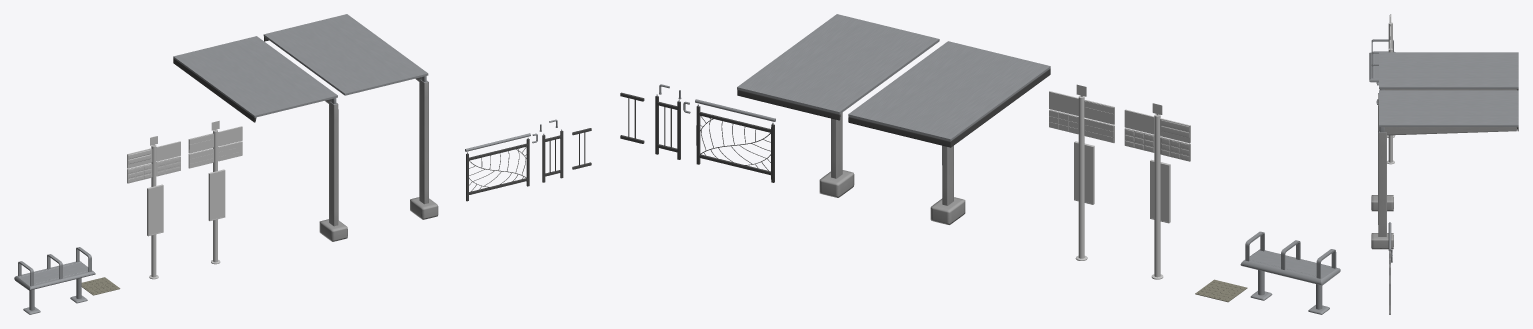
File: slopeAssets1.fbx
The picture shows the model from 3 angles, left to right: view 1: azimuth 30°, elevation 25°; view 2: azimuth 150°, elevation 25°; view 3: azimuth 270°, elevation 25°; orthographic projection. The views are drawn at different scales.
Parts seen in each view (by area): view 1: pCube14 (×2), pCube11 (×2), transparent (×2), pCube18, pCube10 (×2), pole (×2), pCube16; view 2: pCube14 (×2), pole (×2), pCube18, pCube10 (×2), pCube11 (×2), pCube15 (×2), transparent (×2), pCube27 (×2), pCube16, pCube9; view 3: pCube14 (×2), pCube13 (×2), pCube11, pCube10 (×2), pCube18, pole.
Boxes of the visible parts, box(x1,y1,x2,y2) form: pCube14 (×2): box(173, 14, 428, 117); pCube11 (×2): box(329, 79, 428, 226); transparent (×2): box(149, 171, 224, 234); pCube18: box(14, 261, 95, 290); pCube10 (×2): box(319, 197, 438, 241); pole (×2): box(151, 129, 217, 277); pCube16: box(173, 58, 256, 122); pCube14 (×2): box(737, 14, 1050, 141); pole (×2): box(1078, 95, 1160, 277); pCube18: box(1240, 249, 1340, 285); pCube10 (×2): box(819, 170, 965, 224); pCube11 (×2): box(831, 112, 953, 205); pCube15 (×2): box(737, 89, 950, 147); transparent (×2): box(1075, 143, 1167, 221); pCube27 (×2): box(1049, 91, 1154, 134); pCube16: box(950, 68, 1050, 147); pCube9: box(1195, 279, 1247, 302); pCube14 (×2): box(1379, 52, 1518, 126); pCube13 (×2): box(1384, 89, 1516, 135); pCube11: box(1378, 130, 1386, 236); pCube10 (×2): box(1371, 195, 1393, 249); pCube18: box(1369, 51, 1395, 82); pole: box(1388, 48, 1392, 162).
Bounding box in the file's own units: 11.02 × 2.64 × 2.89.
